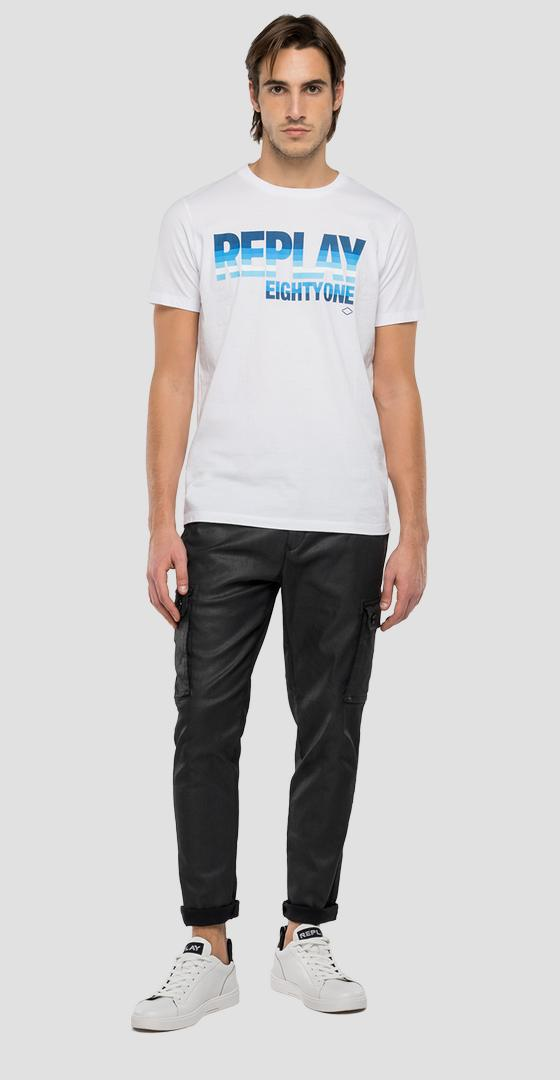casual round-necked tshirt: (118, 164, 437, 537)
